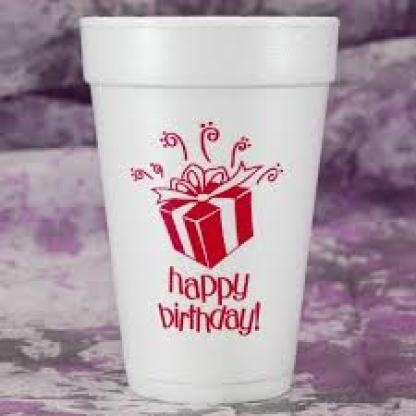trash: (81, 17, 338, 403)
